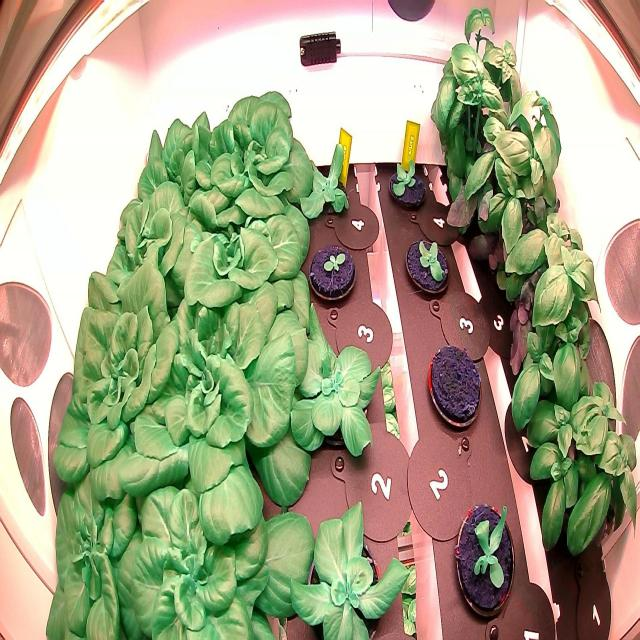pod: (424, 340, 485, 432)
young: (128, 295, 300, 546), (117, 466, 314, 639), (53, 259, 177, 492), (189, 86, 316, 234), (286, 494, 410, 639), (36, 479, 146, 639), (167, 217, 310, 330), (288, 299, 386, 458), (104, 180, 191, 302), (451, 496, 520, 621), (134, 107, 209, 221), (298, 138, 357, 230), (400, 228, 456, 304), (307, 240, 358, 311), (384, 143, 432, 216)
